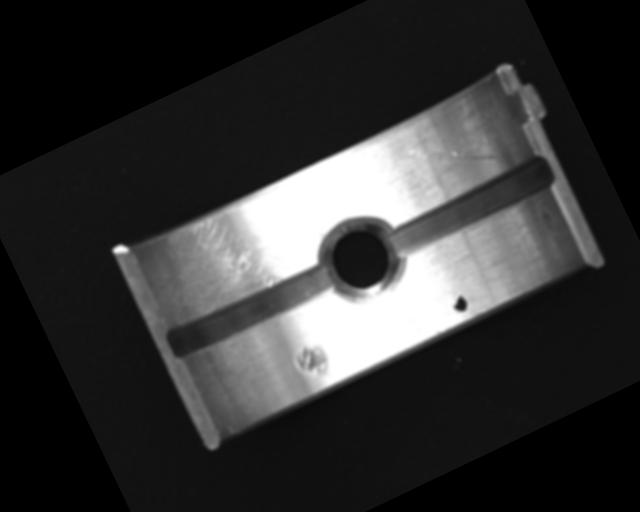blot: (446, 289, 470, 316)
bruise: (291, 338, 335, 386)
gap: (161, 252, 341, 365), (386, 153, 559, 260)
hole: (310, 205, 416, 314)
nick: (405, 115, 500, 193)
scratch: (140, 178, 324, 330)
